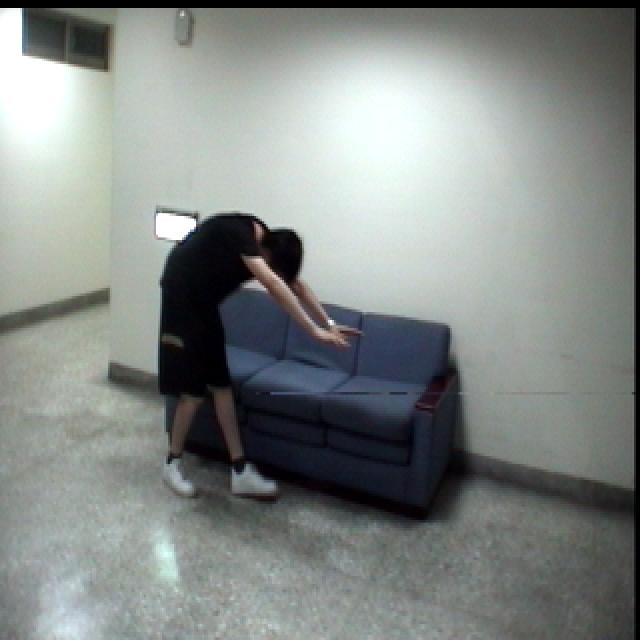bend: (150, 209, 361, 507)
